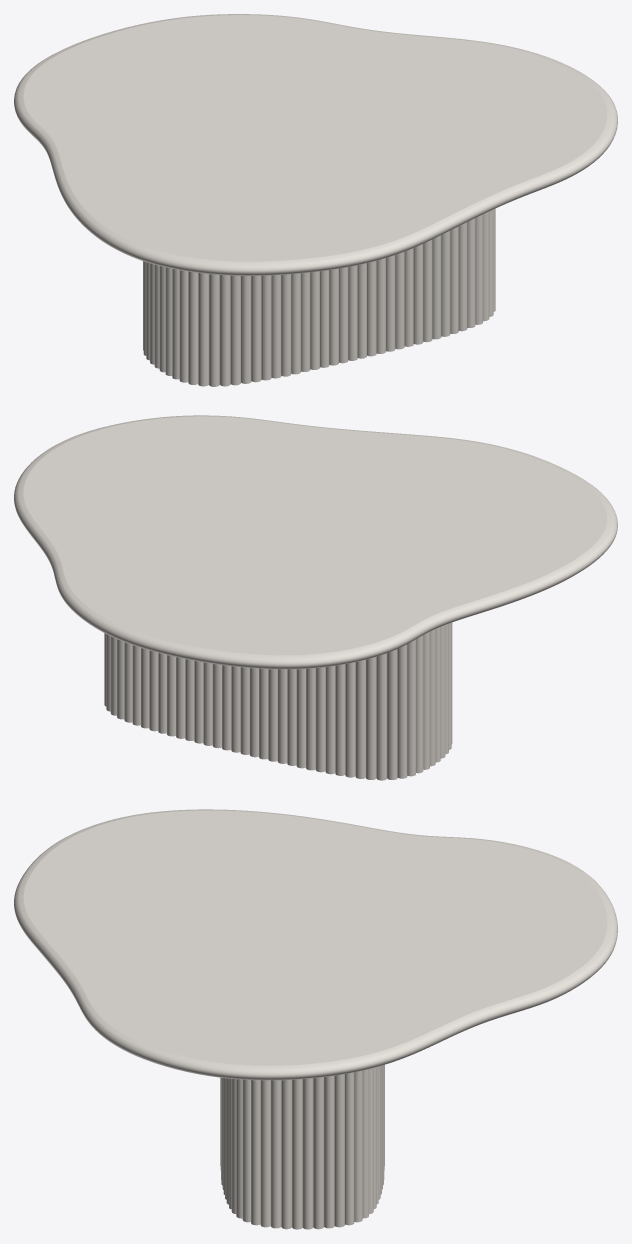
File: pearlwhite_topone_round_newtable.glb
The picture shows the model from 3 angles, top to bottom: view 1: azimuth 30°, elevation 25°; view 2: azimuth 150°, elevation 25°; view 3: azimuth 270°, elevation 25°; orthographic projection. The views are drawn at different scales.
Parts seen in each view (by area): view 1: round_topone, newtable; view 2: round_topone, newtable; view 3: round_topone, newtable.
Boxes of the visible parts, box(x1,y1,x2,y2) form: round_topone: box(14, 14, 617, 275); newtable: box(143, 208, 495, 386); round_topone: box(14, 415, 617, 669); newtable: box(104, 622, 452, 780); round_topone: box(14, 809, 617, 1080); newtable: box(220, 1065, 384, 1229).
Bounding box in the file's own units: 6.83 × 2.5 × 6.6.
Materials: 2 (2 with a texture image).
